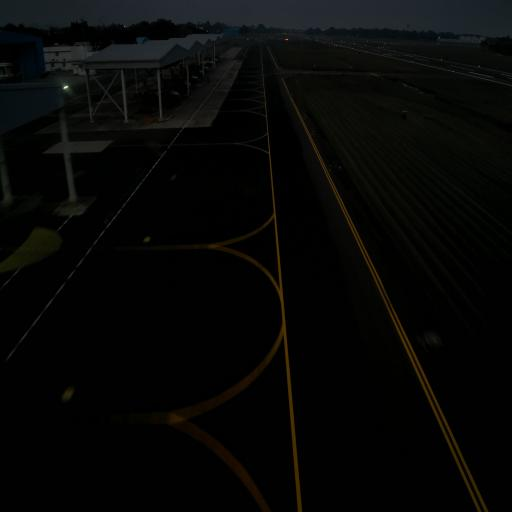on: (338, 163, 342, 172)
